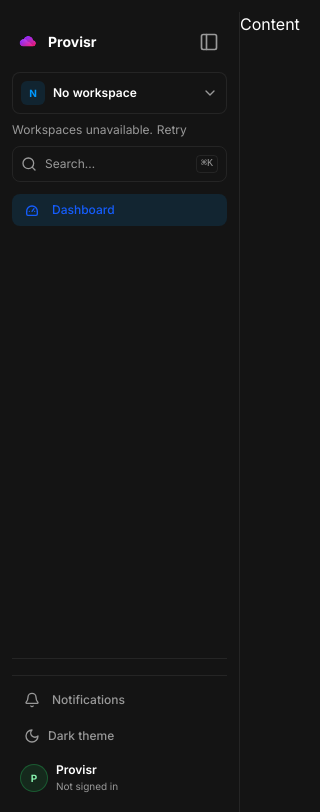
Test case: DashboardShell › keeps restricted links hidden during loading and after degraded listing; retry recovers
Expected: the message "Workspaces unavailable. Retry" is shown, [12,122,187,138]
Click the button "Retry": coordinates (172, 130) [157,122,187,138]
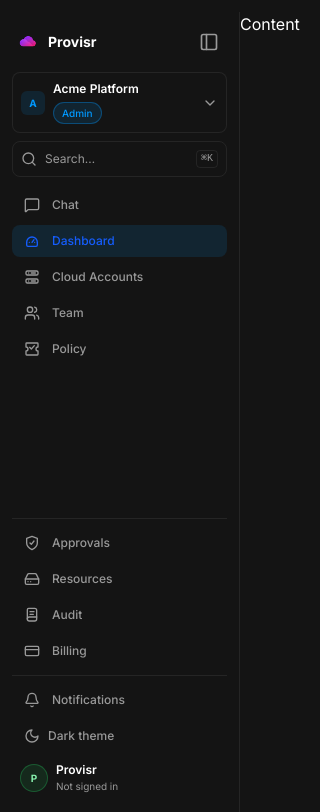
Expected: the link with test id "nav-team" is shown, [24,305,84,321]
